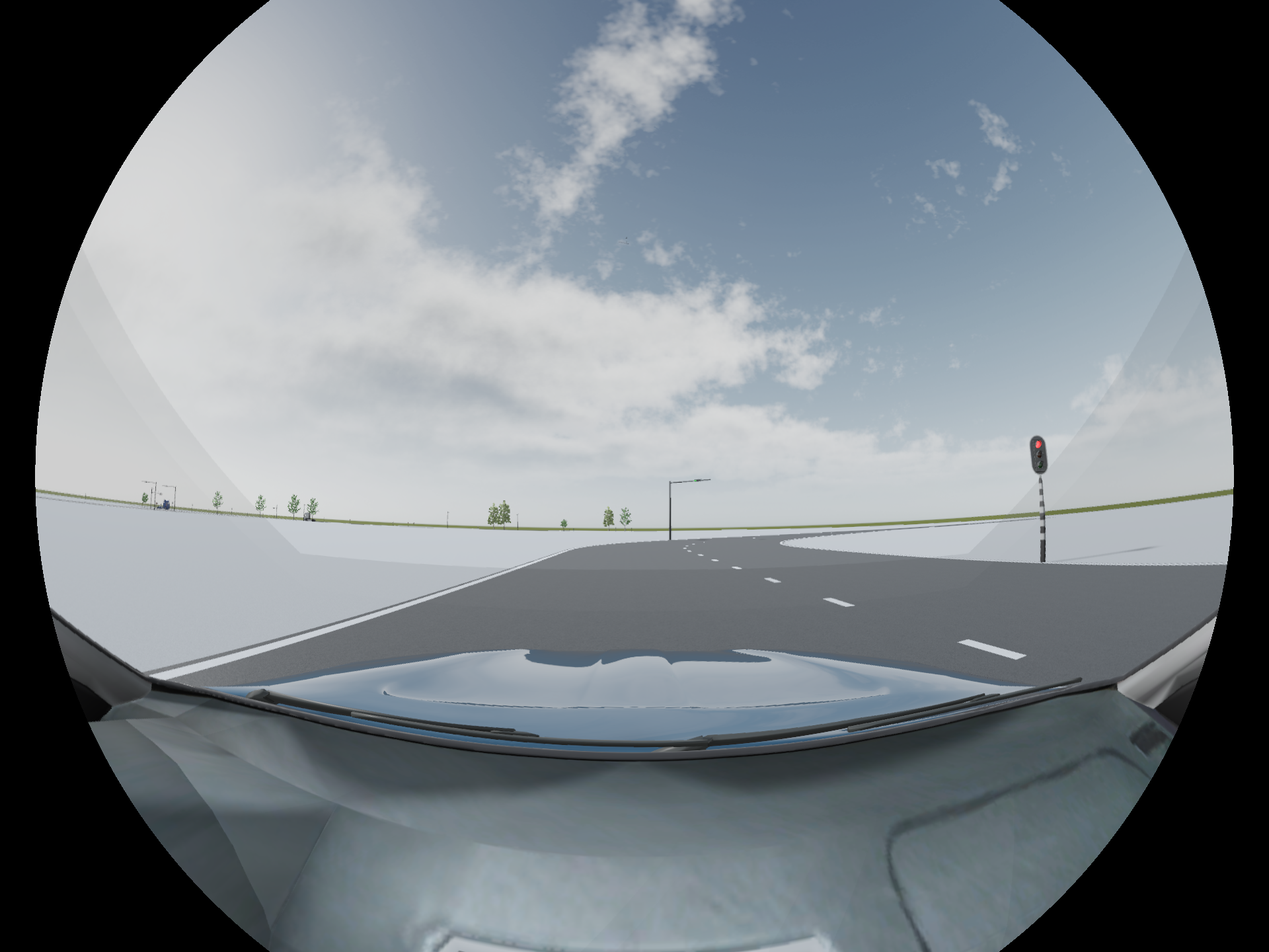Red Light: (1030, 433, 1049, 476)
